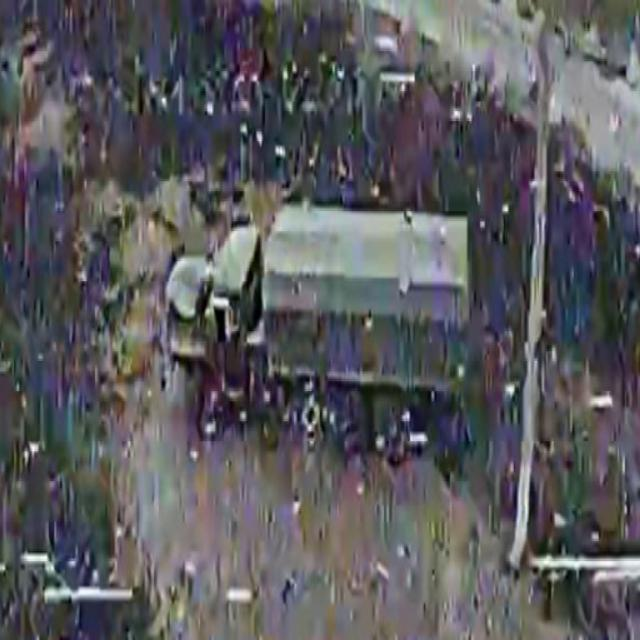TRUCK: (155, 190, 476, 460)
